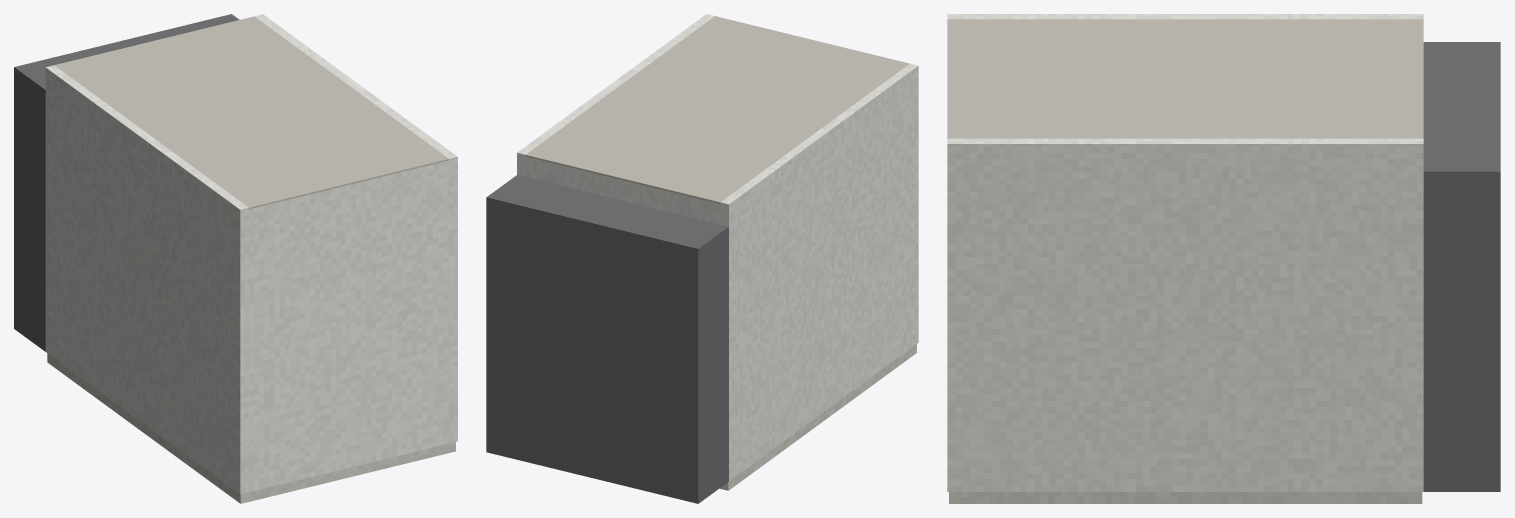
3 renders of one model, left to right at view 1: azimuth 30°, elevation 25°; view 2: azimuth 150°, elevation 25°; view 3: azimuth 270°, elevation 25°, orthographic. The views are drawn at different scales.
Parts seen in each view (by area): view 1: bokovina_levaya, krysha, zadnyaya_stenka, cokol, bokovina_pravaya, fasad_1; view 2: cokol, bokovina_levaya, zadnyaya_stenka, dno, bokovina_pravaya, fasad_1; view 3: bokovina_pravaya, zadnyaya_stenka, cokol, fasad_1, bokovina_levaya.
Part boxes in pixels (x1,y1,x2,y2): bokovina_levaya: (45, 65, 248, 494); krysha: (249, 160, 448, 492); zadnyaya_stenka: (54, 16, 448, 209); cokol: (14, 14, 239, 351); bokovina_pravaya: (255, 14, 457, 443); fasad_1: (47, 353, 455, 503); cokol: (486, 175, 728, 503); bokovina_levaya: (720, 63, 918, 481); zadnyaya_stenka: (525, 16, 909, 203); dno: (525, 156, 720, 224); bokovina_pravaya: (517, 14, 714, 176); fasad_1: (720, 344, 916, 490); bokovina_pravaya: (947, 138, 1423, 491); zadnyaya_stenka: (947, 19, 1423, 138); cokol: (1423, 42, 1500, 491); fasad_1: (949, 492, 1422, 503); bokovina_levaya: (947, 14, 1423, 19).
Size of the model in its own units: 400 by 518 by 720.
